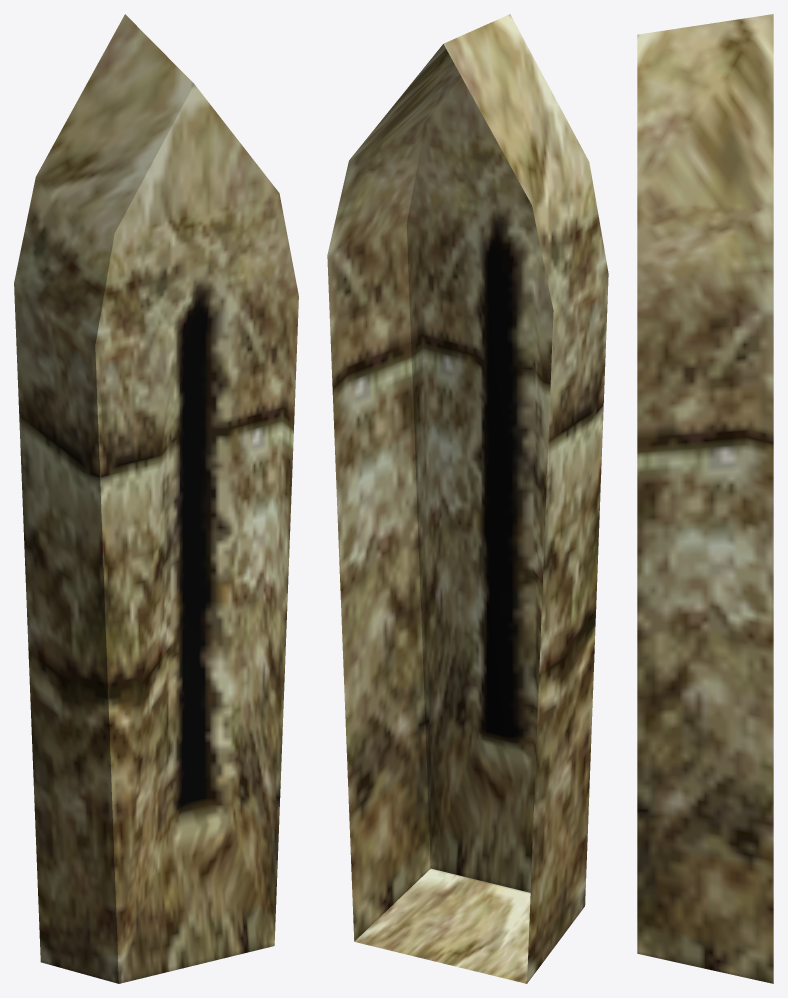
Rendered from hrz76.glb.
3 views of the same model, side by side, from view 1: azimuth 30°, elevation 25°; view 2: azimuth 150°, elevation 25°; view 3: azimuth 270°, elevation 25° (orthographic).
Visible parts, largest first — view 1: hrz76-col; view 2: hrz76-col; view 3: hrz76-col.
Boxes of the visible parts, bbox=[...] form: hrz76-col: bbox=[14, 14, 298, 983]; hrz76-col: bbox=[327, 14, 608, 983]; hrz76-col: bbox=[637, 14, 773, 983].
Size of the model in its own units: 0.6382 by 2.48 by 0.3314.
Materials: 1 (1 with a texture image).
